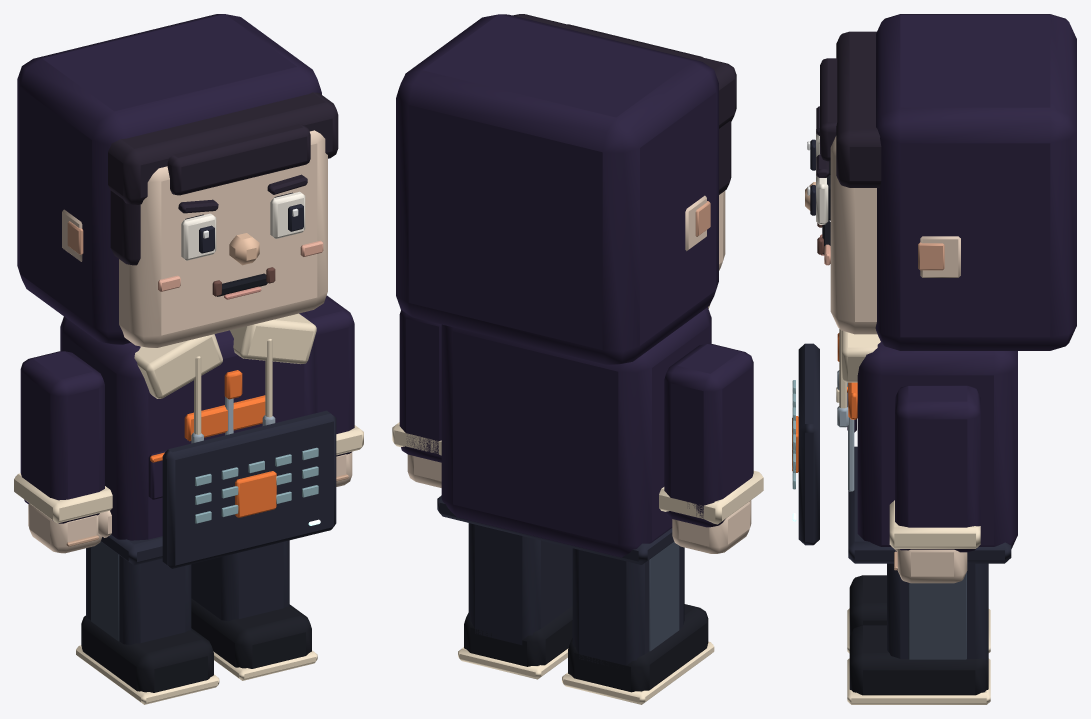
File: joseba.glb
3 views of the same model, side by side, from view 1: azimuth 30°, elevation 25°; view 2: azimuth 150°, elevation 25°; view 3: azimuth 270°, elevation 25° (orthographic). The views are drawn at different scales.
Parts seen in each view (by area): view 1: Hood, Face, Laptop, Jacket, Arm_L_sleeve, Hair, Leg_R_trouser, HoodFringe, Leg_L_shoe, Leg_L_trouser, Leg_R_shoe, Arm_R_sleeve (+19 smaller); view 2: Hood, Jacket, Arm_L_sleeve, Leg_R_trouser, Leg_L_trouser, Arm_R_sleeve, Leg_L_shoe, Leg_R_shoe, TrouserSeam, Arm_L_hand, Hair, SleeveCuff (+7 smaller); view 3: Hood, Jacket, Arm_R_sleeve, Face, Hair, Leg_R_shoe, TrouserSeam.001, Laptop, Leg_R_trouser, JacketHem, Arm_R_hand, SleeveCuff.001 (+8 smaller).
Boxes of the visible parts, box(x1,y1,x2,y2) form: Hood: box(17, 14, 321, 344); Face: box(119, 130, 327, 347); Laptop: box(162, 410, 336, 568); Jacket: box(60, 312, 314, 540); Arm_L_sleeve: box(20, 351, 104, 523); Hair: box(108, 92, 338, 204); Leg_R_trouser: box(191, 540, 289, 621); HoodFringe: box(167, 124, 310, 195); Leg_L_shoe: box(81, 615, 213, 692); Leg_L_trouser: box(86, 547, 191, 644); Leg_R_shoe: box(191, 598, 311, 668); Arm_R_sleeve: box(306, 295, 354, 456); Hood: box(396, 14, 718, 364); Jacket: box(441, 307, 711, 557); Arm_L_sleeve: box(664, 344, 753, 527); Leg_R_trouser: box(468, 523, 572, 645); Leg_L_trouser: box(572, 546, 684, 667); Arm_R_sleeve: box(399, 310, 441, 462); Leg_L_shoe: box(568, 604, 708, 692); Leg_R_shoe: box(464, 606, 572, 666); TrouserSeam: box(649, 542, 679, 651); Arm_L_hand: box(672, 500, 751, 553); Hair: box(512, 14, 736, 128); SleeveCuff: box(659, 471, 763, 524); Hood: box(875, 14, 1076, 350); Jacket: box(857, 342, 1017, 548); Arm_R_sleeve: box(895, 385, 980, 552); Face: box(830, 136, 877, 334); Hair: box(836, 31, 881, 187); Leg_R_shoe: box(849, 625, 988, 695); TrouserSeam.001: box(908, 572, 966, 659); Laptop: box(798, 343, 819, 545); Leg_R_trouser: box(887, 563, 988, 661); JacketHem: box(848, 446, 1011, 563); Arm_R_hand: box(897, 549, 967, 583); SleeveCuff.001: box(889, 500, 980, 548).
Bounding box in the file's own units: 0.697 × 1.24 × 0.5325.
